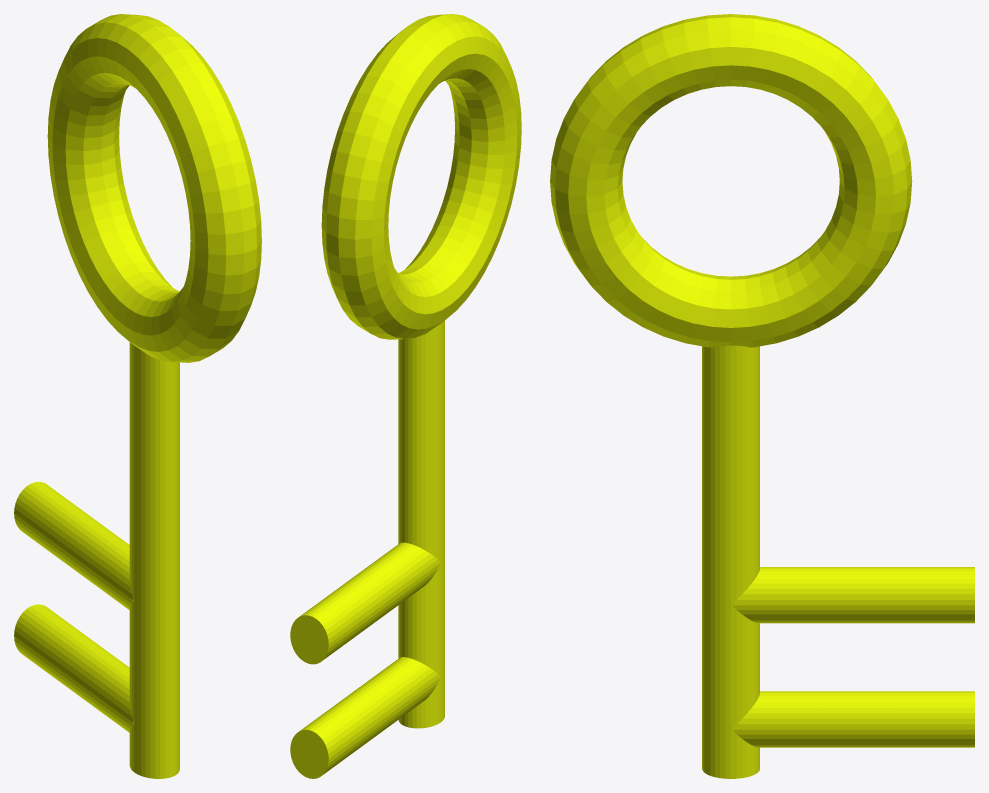
Rendered from Key.fbx.
3 renders of one model, left to right at view 1: azimuth 30°, elevation 25°; view 2: azimuth 150°, elevation 25°; view 3: azimuth 270°, elevation 25°, orthographic. The views are drawn at different scales.
Visible parts, largest first — view 1: Cylinder.002; view 2: Cylinder.002; view 3: Cylinder.002.
Boxes of the visible parts, x1,y1,x2,y2 form: Cylinder.002: (14,14,261,778); Cylinder.002: (290,14,521,778); Cylinder.002: (550,14,974,778).
Size of the model in its own units: 30 by 343 by 176.
Materials: 1 (1 with a texture image).
